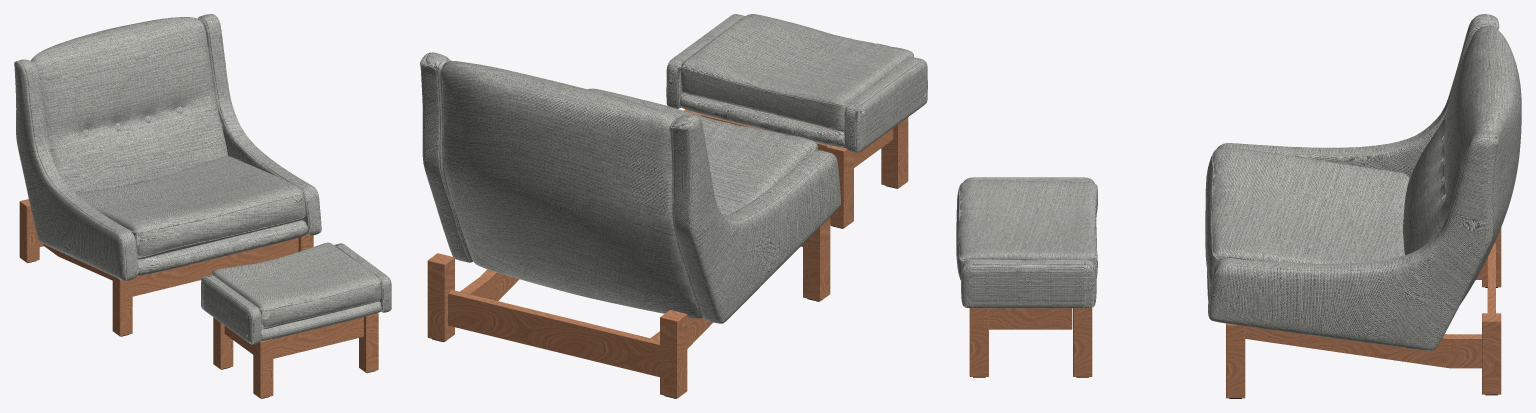
Rendered from potrona.glb.
3 renders of one model, left to right at view 1: azimuth 30°, elevation 25°; view 2: azimuth 150°, elevation 25°; view 3: azimuth 270°, elevation 25°, orthographic. The views are drawn at different scales.
Visible parts, largest first — view 1: Group24, Group13, skp39B5_1, Group2; view 2: Group24, Group13, skp39B5_1, Group2; view 3: Group24, Group13, skp39B5_1, Group2.
Part boxes in pixels (<box>): Group24: <box>14,14,321,280</box>; Group13: <box>201,242,391,344</box>; skp39B5_1: <box>19,199,313,336</box>; Group2: <box>213,313,378,398</box>; Group24: <box>420,52,840,323</box>; Group13: <box>666,14,927,152</box>; skp39B5_1: <box>427,217,830,398</box>; Group2: <box>684,109,908,228</box>; Group24: <box>1205,14,1521,350</box>; Group13: <box>956,177,1097,308</box>; skp39B5_1: <box>1226,227,1501,398</box>; Group2: <box>969,307,1092,376</box>.
Size of the model in its own units: 0.7684 by 0.7514 by 1.44.
3 materials, 2 textured.
